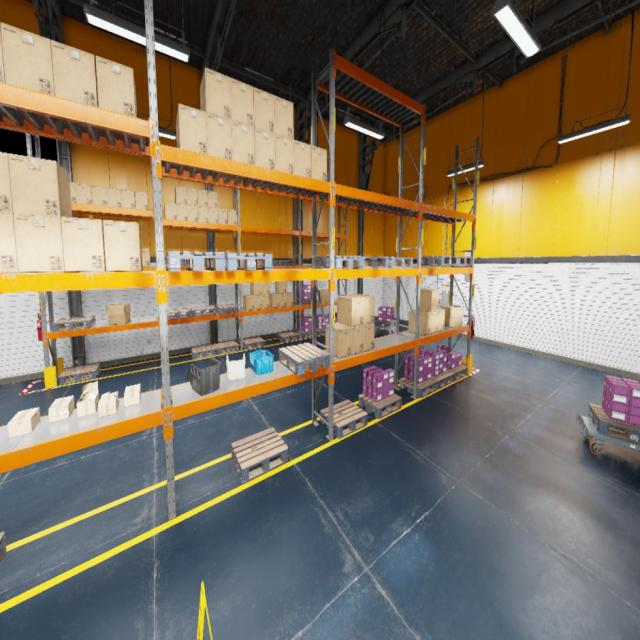box: (8, 154, 72, 217), (1, 22, 55, 95), (51, 40, 98, 108), (14, 214, 64, 273), (95, 56, 137, 117), (61, 218, 106, 272), (103, 220, 143, 272), (200, 67, 232, 120), (176, 104, 208, 154), (206, 112, 232, 160), (230, 78, 254, 127), (0, 213, 18, 273), (253, 87, 275, 134), (8, 407, 40, 438), (232, 121, 254, 165), (254, 128, 276, 170), (326, 323, 352, 358), (274, 95, 294, 140), (76, 382, 100, 418), (338, 295, 364, 327), (0, 152, 13, 213), (275, 134, 294, 174), (350, 294, 374, 324), (49, 396, 74, 422), (294, 140, 311, 178), (408, 309, 431, 336), (311, 146, 327, 182), (98, 391, 119, 417), (441, 306, 464, 328), (106, 304, 131, 324), (420, 288, 439, 312), (124, 384, 141, 407), (421, 310, 438, 333), (91, 184, 108, 207), (351, 325, 364, 354), (76, 182, 92, 205), (106, 186, 121, 208), (120, 189, 136, 208), (0, 22, 5, 82), (364, 323, 374, 351), (135, 190, 148, 210), (165, 201, 177, 220), (186, 187, 198, 205), (175, 186, 187, 204), (176, 204, 188, 221), (187, 205, 198, 222), (208, 190, 218, 208), (198, 205, 208, 222), (198, 190, 208, 207), (250, 282, 262, 296), (243, 295, 254, 310), (227, 209, 237, 225), (208, 207, 218, 223), (219, 208, 228, 224), (275, 281, 286, 294), (438, 309, 444, 332), (142, 249, 150, 266), (270, 293, 279, 308), (70, 182, 76, 204), (318, 290, 328, 302), (286, 291, 294, 306), (254, 295, 262, 310), (262, 295, 270, 309), (279, 294, 287, 307), (262, 282, 270, 295)
pallets: (231, 428, 288, 483), (588, 403, 640, 445), (320, 399, 368, 438), (278, 342, 329, 376), (166, 251, 226, 271), (358, 394, 402, 418), (59, 364, 100, 386), (225, 253, 272, 270), (400, 377, 438, 398), (52, 316, 95, 331), (316, 256, 363, 268), (343, 256, 388, 268), (432, 371, 454, 389), (192, 344, 216, 360), (214, 341, 239, 355), (447, 365, 468, 381), (380, 258, 413, 268), (422, 256, 458, 265), (243, 337, 265, 350), (167, 308, 190, 320), (190, 306, 216, 316), (216, 304, 238, 314), (277, 332, 299, 342), (375, 319, 396, 328), (0, 531, 6, 560), (451, 257, 472, 264), (297, 331, 318, 338), (183, 260, 206, 266), (165, 259, 184, 266), (277, 260, 296, 266), (296, 299, 317, 304), (316, 328, 326, 336), (311, 260, 324, 264), (272, 260, 277, 266)
